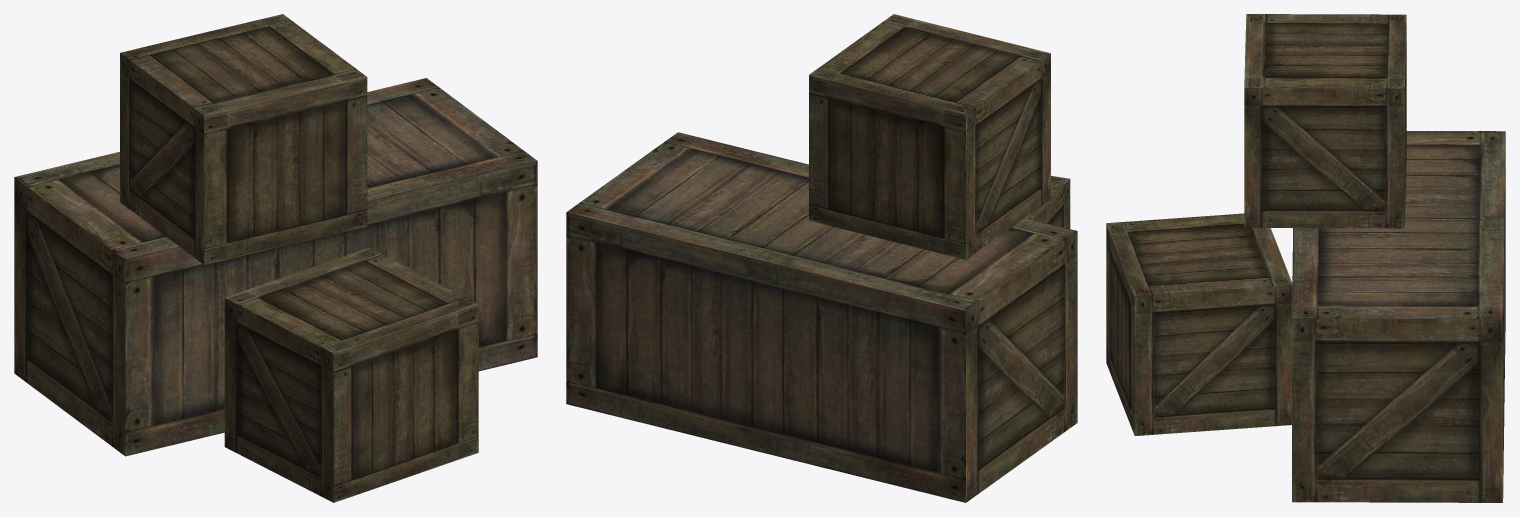
File: thing_cagoboxset01.glb
3 views of the same model, side by side, from view 1: azimuth 30°, elevation 25°; view 2: azimuth 150°, elevation 25°; view 3: azimuth 270°, elevation 25° (orthographic). The views are drawn at different scales.
Visible parts, largest first — view 1: thing_cagoboxset01; view 2: thing_cagoboxset01; view 3: thing_cagoboxset01.
Part boxes in pixels (bbox=[...]): thing_cagoboxset01: bbox=[14, 14, 537, 502]; thing_cagoboxset01: bbox=[566, 14, 1077, 502]; thing_cagoboxset01: bbox=[1106, 14, 1505, 502].
Bounding box in the file's own units: 2.76 × 2.21 × 2.47.
Materials: 1 (1 with a texture image).
